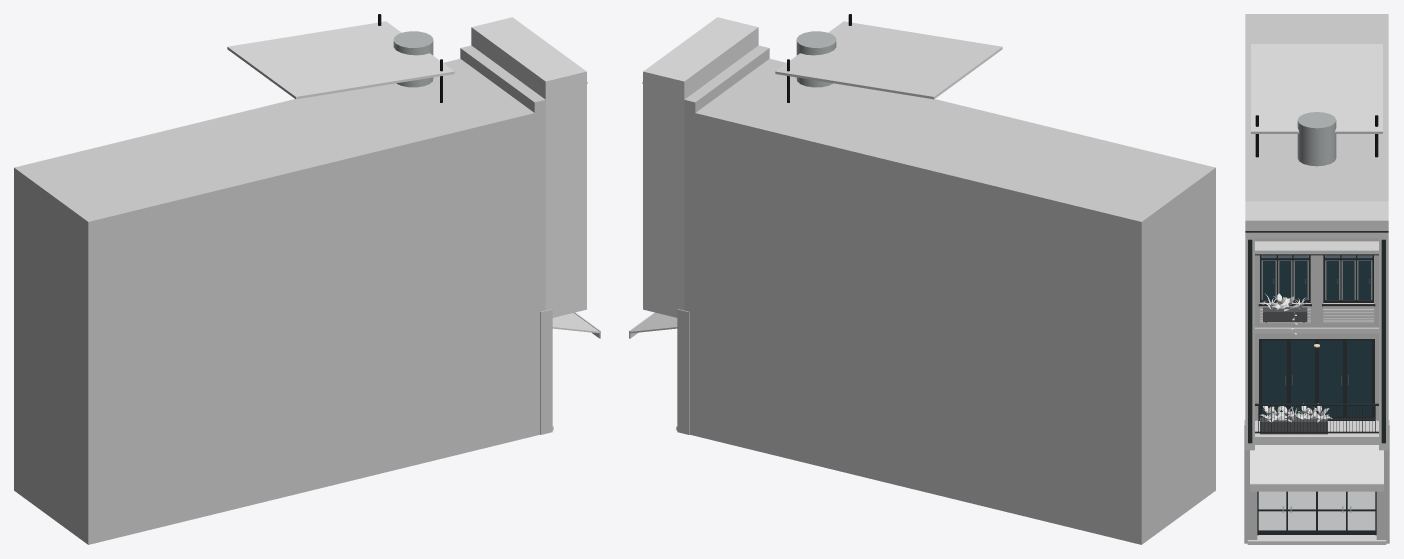
Rendered from OW_Mau_NhaPho_4_5_3.fbx.
The picture shows the model from 3 angles, left to right: view 1: azimuth 30°, elevation 25°; view 2: azimuth 150°, elevation 25°; view 3: azimuth 270°, elevation 25°; orthographic projection. The views are drawn at different scales.
Visible parts, largest first — view 1: OW_NhaPho_9006; view 2: OW_NhaPho_9006; view 3: OW_NhaPho_9006, OW_MatTienKinh.
Boxes of the visible parts, x1,y1,x2,y2 form: OW_NhaPho_9006: (14, 14, 600, 544); OW_NhaPho_9006: (629, 14, 1215, 544); OW_NhaPho_9006: (1244, 14, 1389, 544); OW_MatTienKinh: (1257, 491, 1376, 535).
Size of the model in its own units: 17.77 by 13.01 by 4.5.
